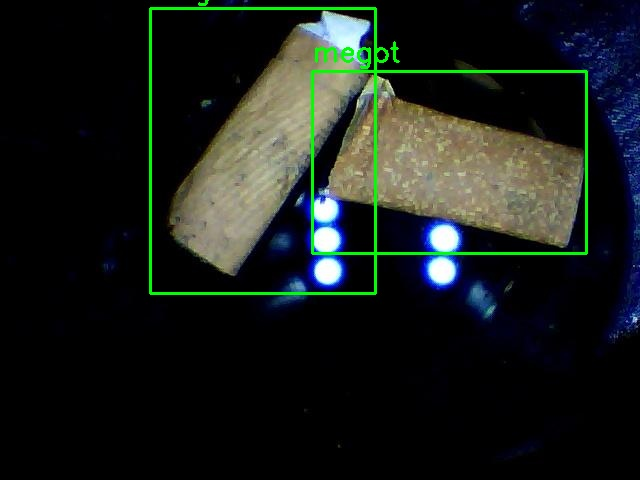megot: (150, 8, 375, 293), (312, 71, 586, 253)
